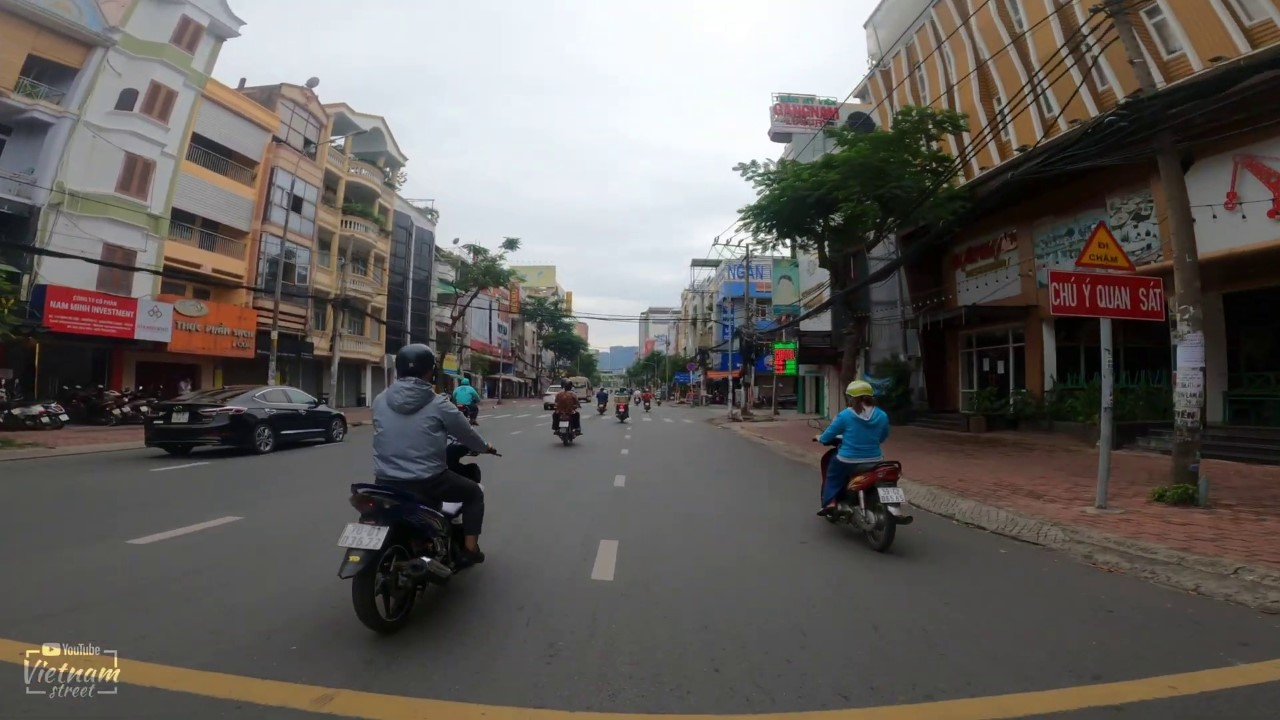di_cham: (1074, 219, 1135, 272)
